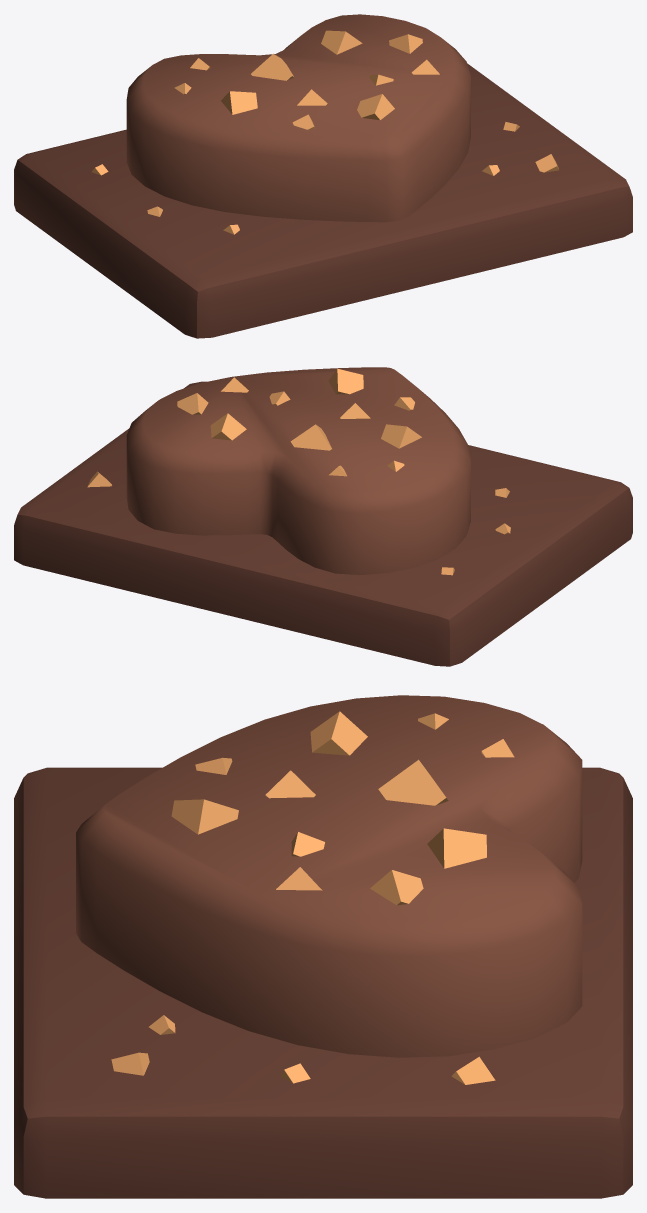
3 views of the same model, one above another, from view 1: azimuth 30°, elevation 25°; view 2: azimuth 150°, elevation 25°; view 3: azimuth 270°, elevation 25° (orthographic). The views are drawn at different scales.
Visible parts, largest first — view 1: chocolate_4_1, chocolate_4_2; view 2: chocolate_4_1, chocolate_4_2; view 3: chocolate_4_1, chocolate_4_2.
Part boxes in pixels (box(x1,y1,x2,y2)): chocolate_4_1: box(14, 14, 632, 338); chocolate_4_2: box(92, 30, 558, 234); chocolate_4_1: box(14, 367, 632, 666); chocolate_4_2: box(87, 368, 510, 575); chocolate_4_1: box(14, 695, 632, 1198); chocolate_4_2: box(111, 711, 514, 1084).
Size of the model in its own units: 71.29 by 22.7 by 52.26.
